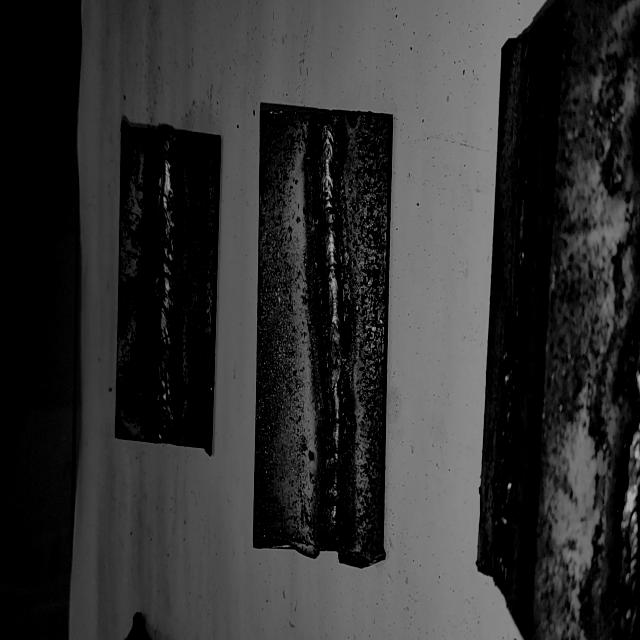Good Weld: (316, 118, 346, 543), (153, 132, 180, 434)
